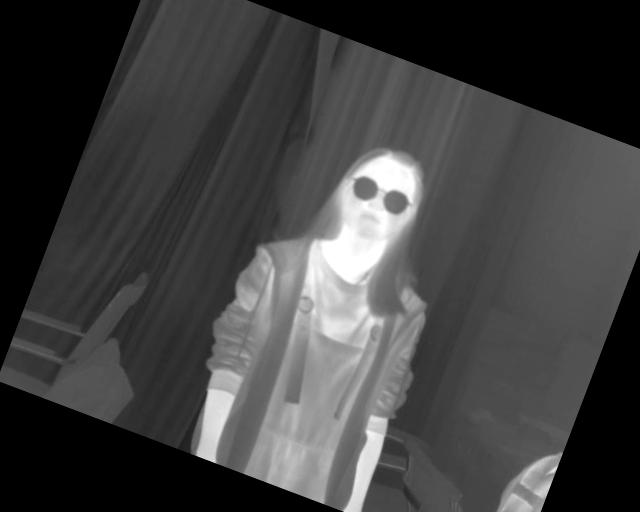face: (391, 226, 480, 321), (264, 148, 350, 245)
